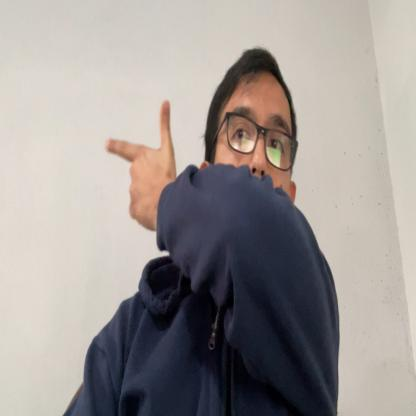G: (104, 97, 172, 229)
